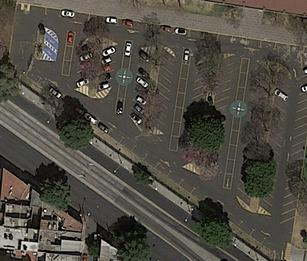parkingspot: (24, 68, 267, 245), (29, 4, 305, 55), (280, 91, 307, 224), (169, 48, 192, 153), (150, 47, 176, 135), (266, 72, 292, 157), (128, 47, 154, 128), (223, 116, 242, 190), (212, 54, 235, 112), (96, 44, 118, 93), (189, 59, 210, 109), (61, 30, 76, 77), (235, 58, 250, 104), (114, 82, 128, 115), (121, 40, 134, 71), (236, 187, 252, 207)
